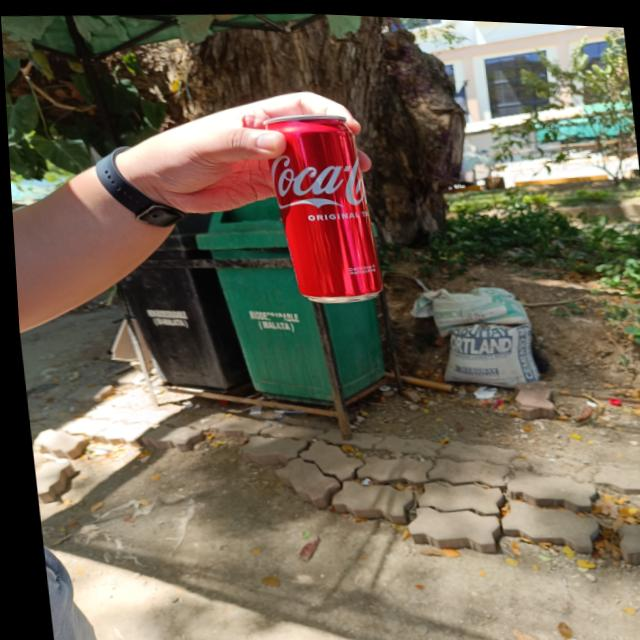coke: (256, 107, 381, 304)
